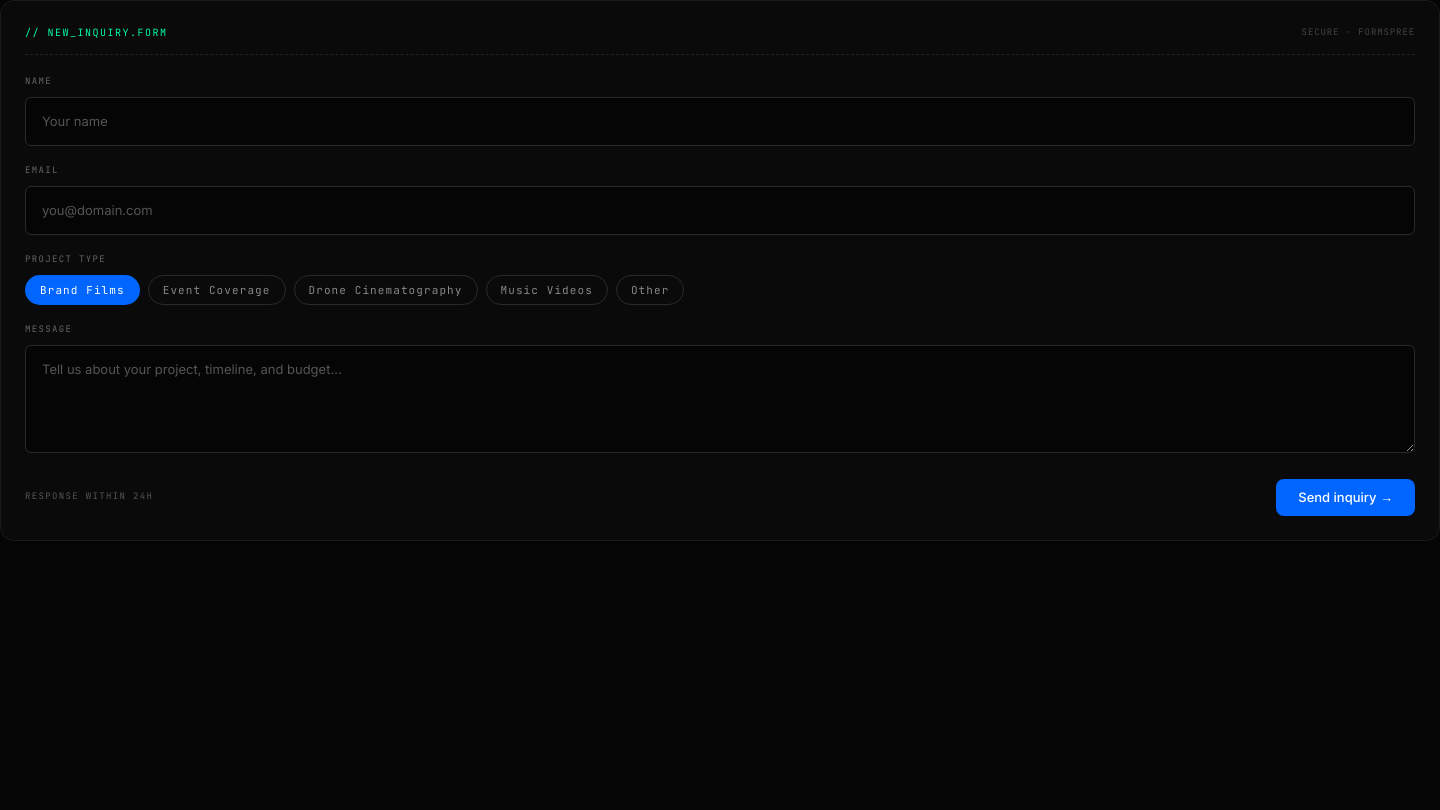
Test: InquireForm › shows validation errors when submitted empty
Click the button "Send inquiry →" at (1346, 497), box x1=1276 y1=478 x2=1415 y2=516
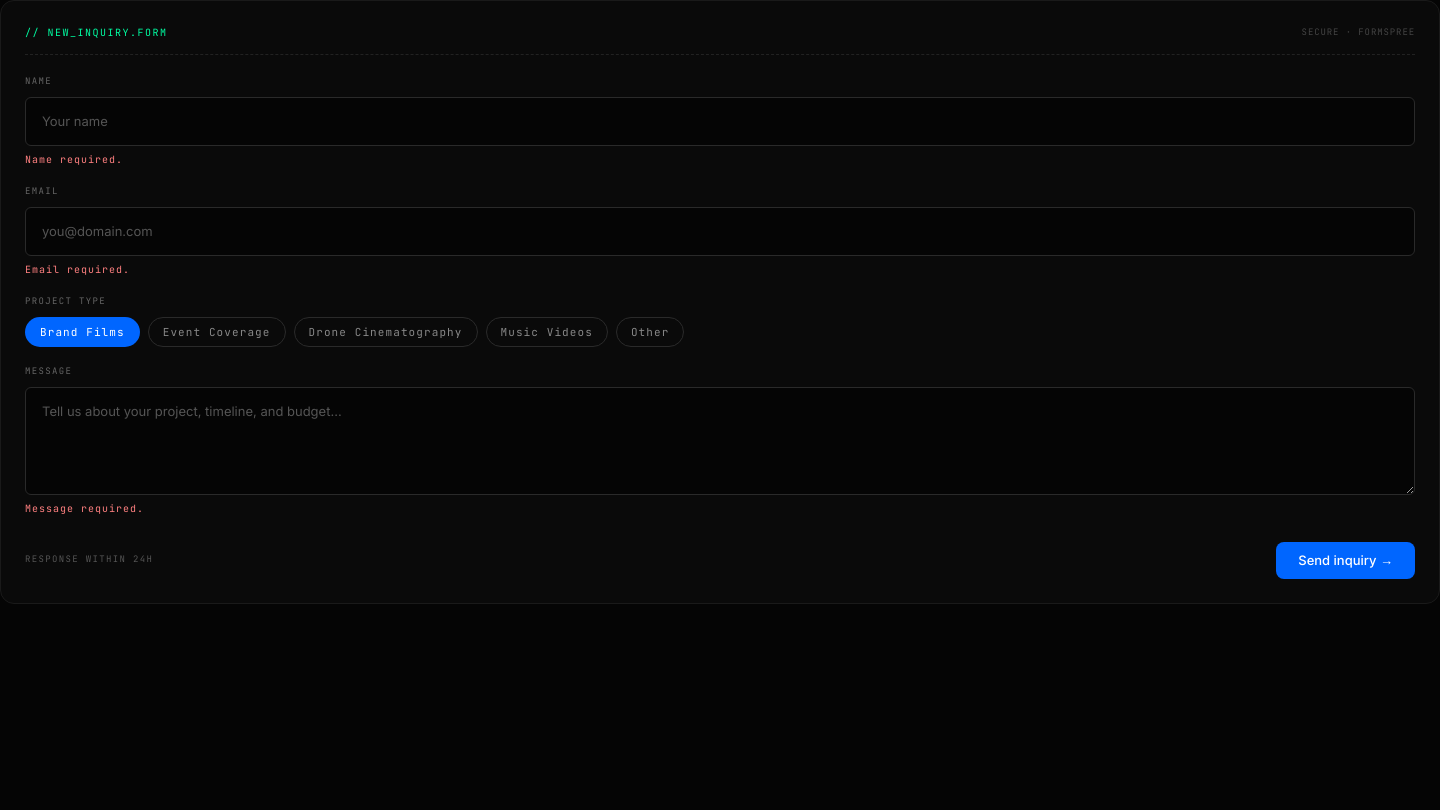
expect the text "Name required." is shown: met, box x1=25 y1=153 x2=123 y2=166
expect the text "Email required." is shown: met, box x1=25 y1=263 x2=130 y2=276
expect the text "Message required." is shown: met, box x1=25 y1=502 x2=144 y2=514
